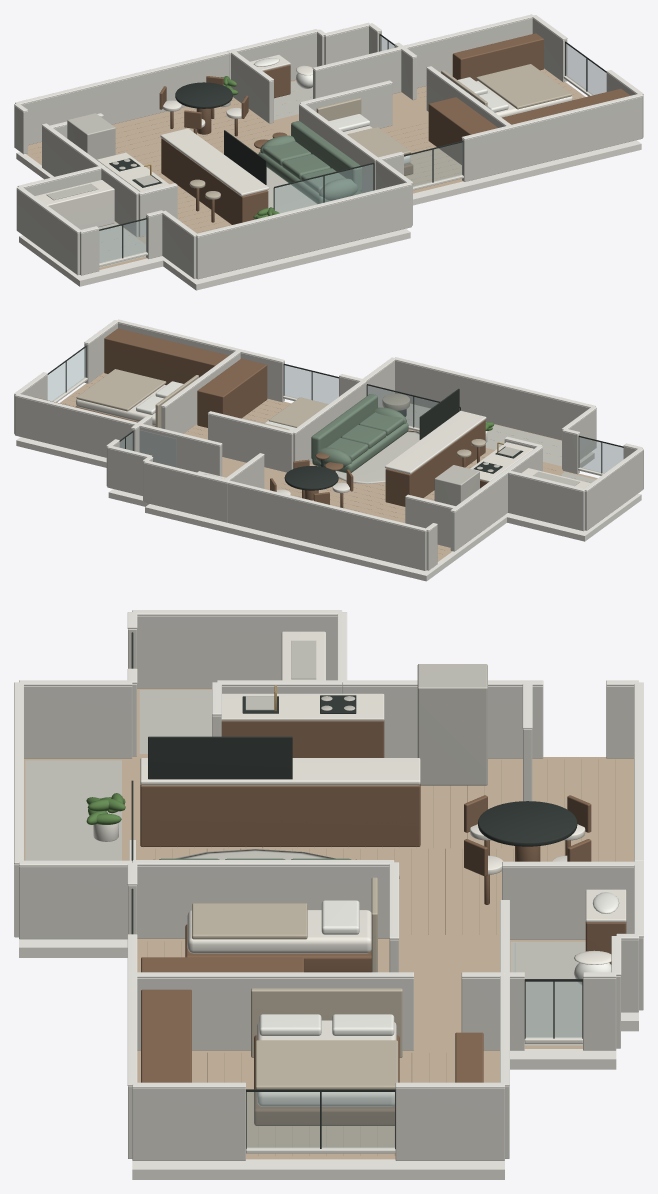
Rendered from moradas-type-4.glb.
3 views of the same model, one above another, from view 1: azimuth 30°, elevation 25°; view 2: azimuth 150°, elevation 25°; view 3: azimuth 270°, elevation 25° (orthographic). The views are drawn at different scales.
Visible parts, largest first — view 1: architecture_plaster.003, architecture_cap.003, architecture_glass.003, living_sage.003, living_floor.003, bedroom_oak.003, kitchen_ivory.003, kitchen_oak.003, bedroom_linen.003, single_oak.003, single_floor.003, living_charcoal.003 (+17 smaller); view 2: architecture_plaster.003, architecture_cap.003, architecture_glass.003, living_sage.003, bedroom_oak.003, single_oak.003, kitchen_ivory.003, kitchen_oak.003, bedroom_linen.003, living_charcoal.003, living_floor.003, kitchen_stone.003 (+14 smaller); view 3: architecture_plaster.003, architecture_cap.003, kitchen_oak.003, living_floor.003, architecture_floor.003, bedroom_linen.003, architecture_glass.003, living_charcoal.003, kitchen_stone.003, bedroom_oak.003, balcony_stone.003, bedroom_floor.003 (+21 smaller).
Boxes of the visible parts, box(x1,y1,x2,y2) form: architecture_plaster.003: box(14, 18, 643, 279); architecture_cap.003: box(14, 14, 643, 290); architecture_glass.003: box(99, 36, 606, 263); living_sage.003: box(258, 121, 362, 203); living_floor.003: box(28, 98, 361, 193); bedroom_oak.003: box(452, 33, 630, 124); kitchen_ivory.003: box(97, 128, 269, 196); kitchen_oak.003: box(161, 138, 268, 224); bedroom_linen.003: box(441, 64, 571, 109); single_oak.003: box(404, 97, 497, 175); single_floor.003: box(381, 118, 461, 191); living_charcoal.003: box(175, 82, 266, 184); architecture_plaster.003: box(14, 323, 643, 570); architecture_cap.003: box(14, 319, 643, 581); architecture_glass.003: box(48, 347, 623, 473); living_sage.003: box(311, 394, 408, 473); bedroom_oak.003: box(33, 328, 228, 426); single_oak.003: box(197, 358, 267, 427); kitchen_ivory.003: box(385, 410, 533, 481); kitchen_oak.003: box(385, 420, 488, 506); bedroom_linen.003: box(76, 369, 198, 427); living_charcoal.003: box(284, 388, 459, 490); living_floor.003: box(276, 461, 450, 558); kitchen_stone.003: box(434, 446, 520, 505); architecture_plaster.003: box(14, 616, 643, 1160); architecture_cap.003: box(14, 610, 643, 1179); kitchen_oak.003: box(140, 720, 420, 846); living_floor.003: box(139, 759, 632, 934); architecture_floor.003: box(24, 688, 633, 1159); bedroom_linen.003: box(251, 988, 402, 1089); architecture_glass.003: box(247, 982, 581, 1147); living_charcoal.003: box(148, 736, 577, 846); kitchen_stone.003: box(245, 664, 487, 785); bedroom_oak.003: box(141, 989, 483, 1125); balcony_stone.003: box(25, 760, 121, 860); bedroom_floor.003: box(139, 1053, 496, 1156).
Size of the model in its own units: 11.93 by 1.53 by 6.66.
